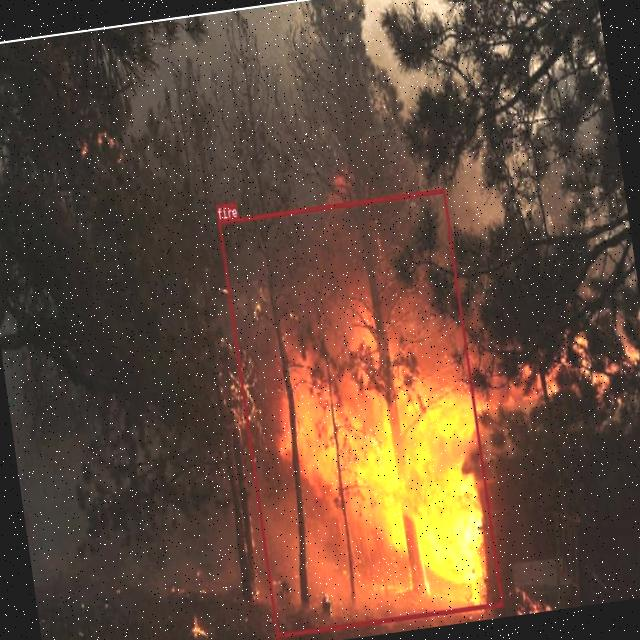fire: (218, 188, 502, 637)
